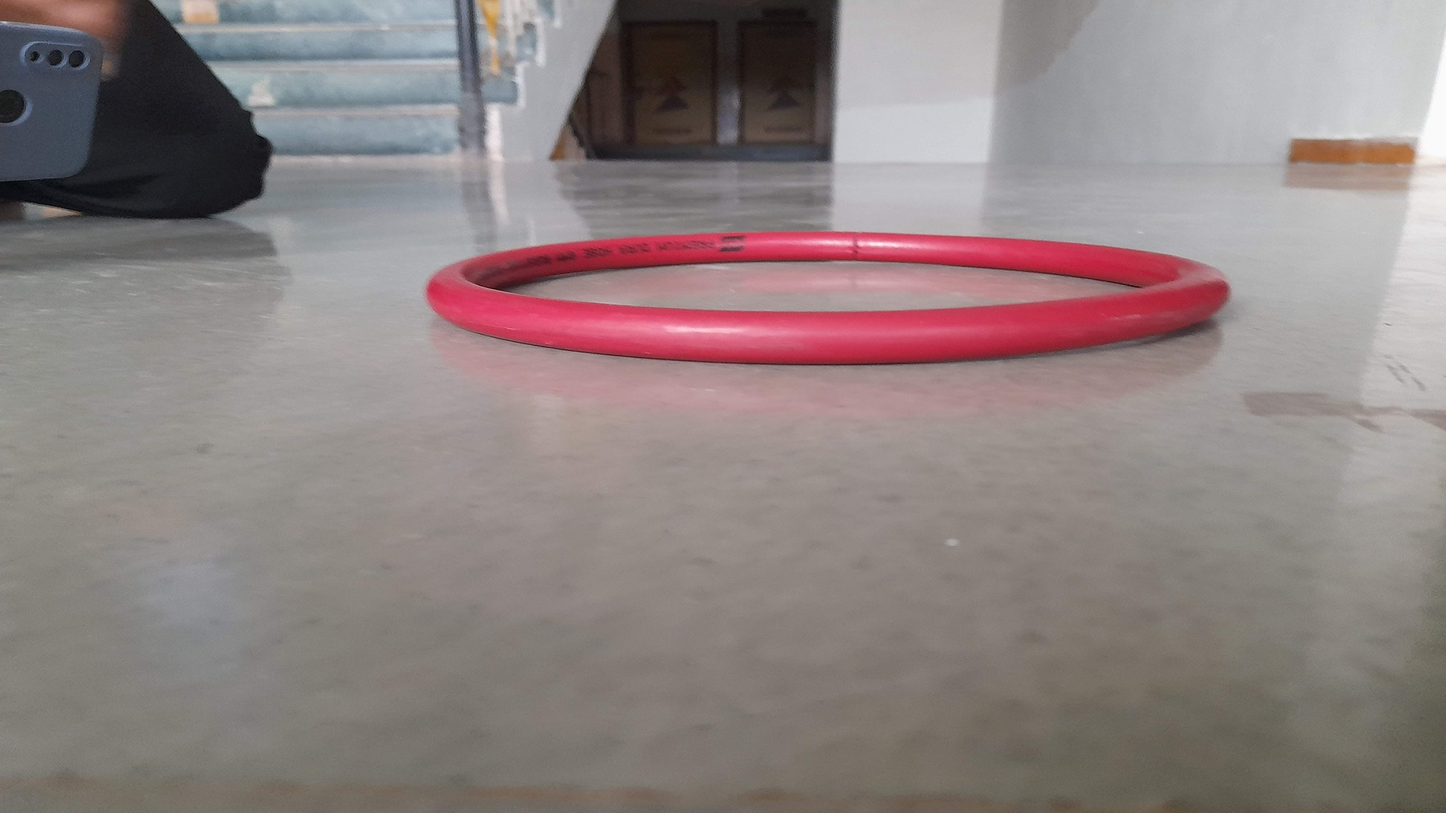Red ring: (429, 230, 1231, 358)
